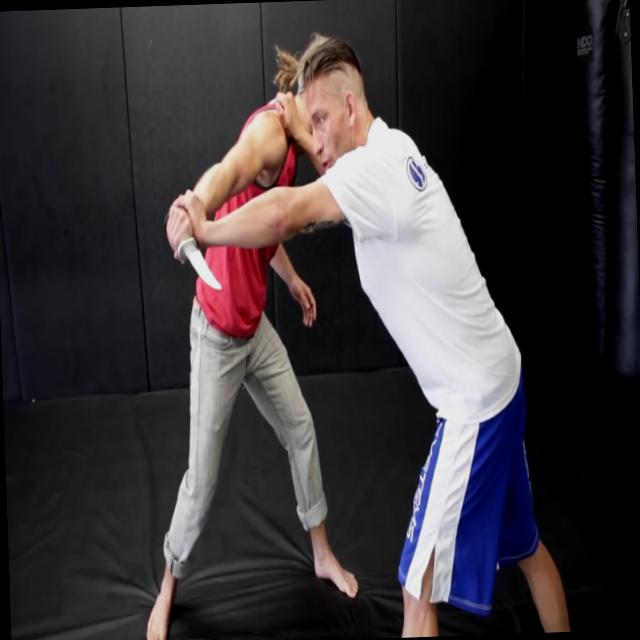knife: (160, 207, 225, 300)
